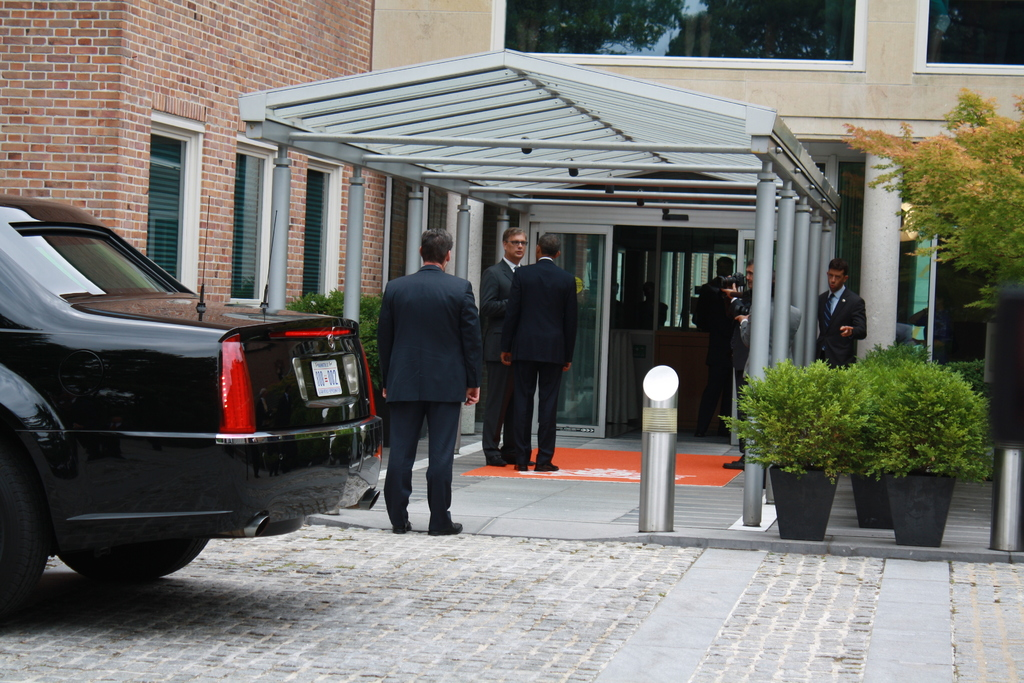Car: (5, 194, 332, 589)
